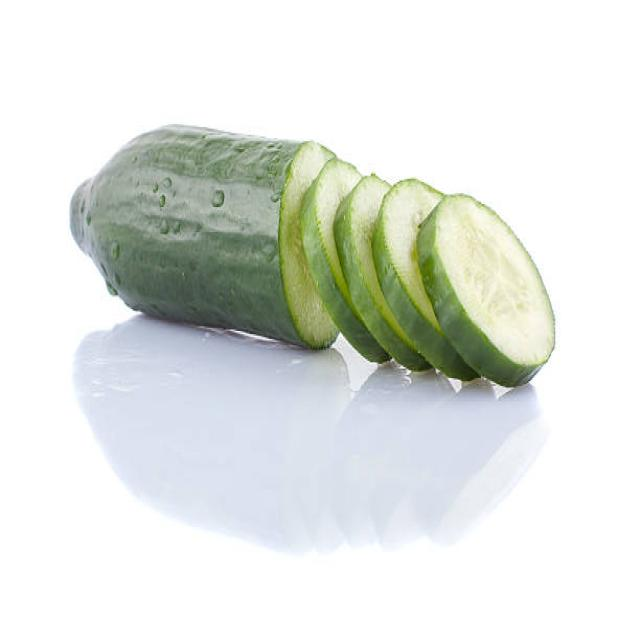cucumber: (68, 119, 555, 387)
